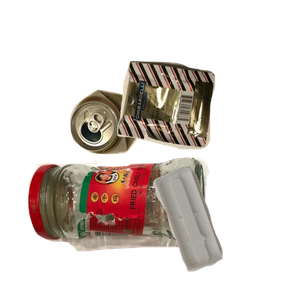glass: (25, 155, 227, 300)
metal: (67, 87, 206, 234)
plastic: (150, 163, 300, 300)
trash: (115, 58, 300, 200)
